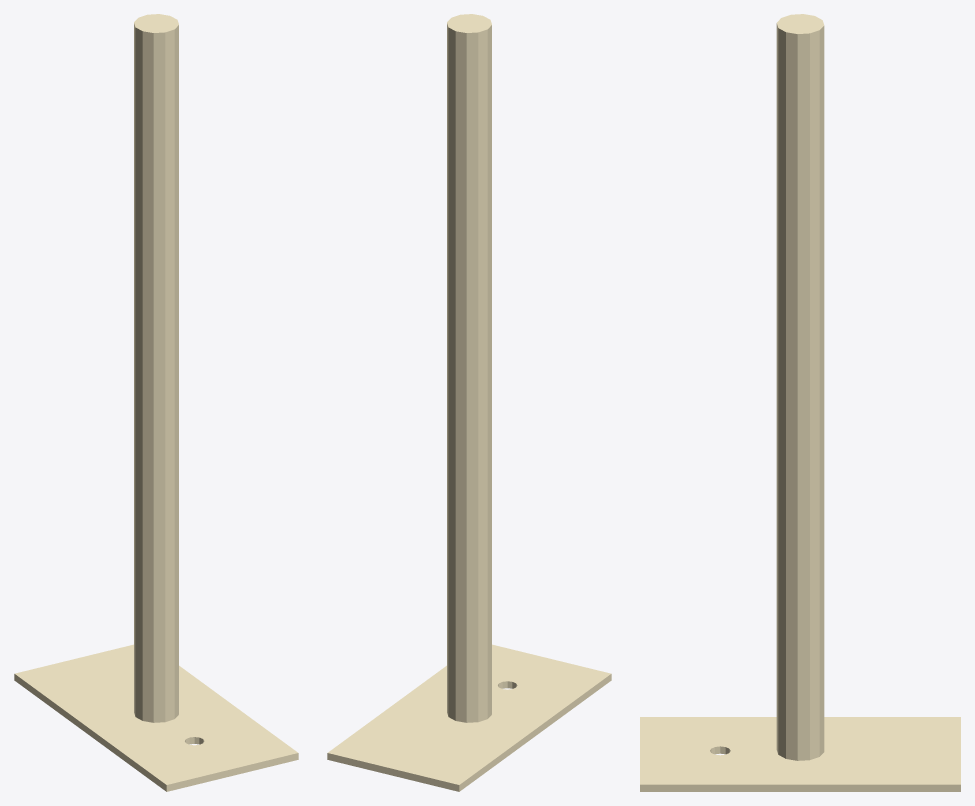
File: Z_Rot.dae
3 renders of one model, left to right at view 1: azimuth 30°, elevation 25°; view 2: azimuth 150°, elevation 25°; view 3: azimuth 270°, elevation 25°, orthographic. The views are drawn at different scales.
Parts seen in each view (by area): view 1: Z_Rot; view 2: Z_Rot; view 3: Z_Rot.
Part boxes in pixels (x1,y1,x2,y2): Z_Rot: (14,14,298,791); Z_Rot: (327,14,611,791); Z_Rot: (640,14,960,791).
Bounding box in the file's own units: 0.1 × 0.2 × 0.505.
